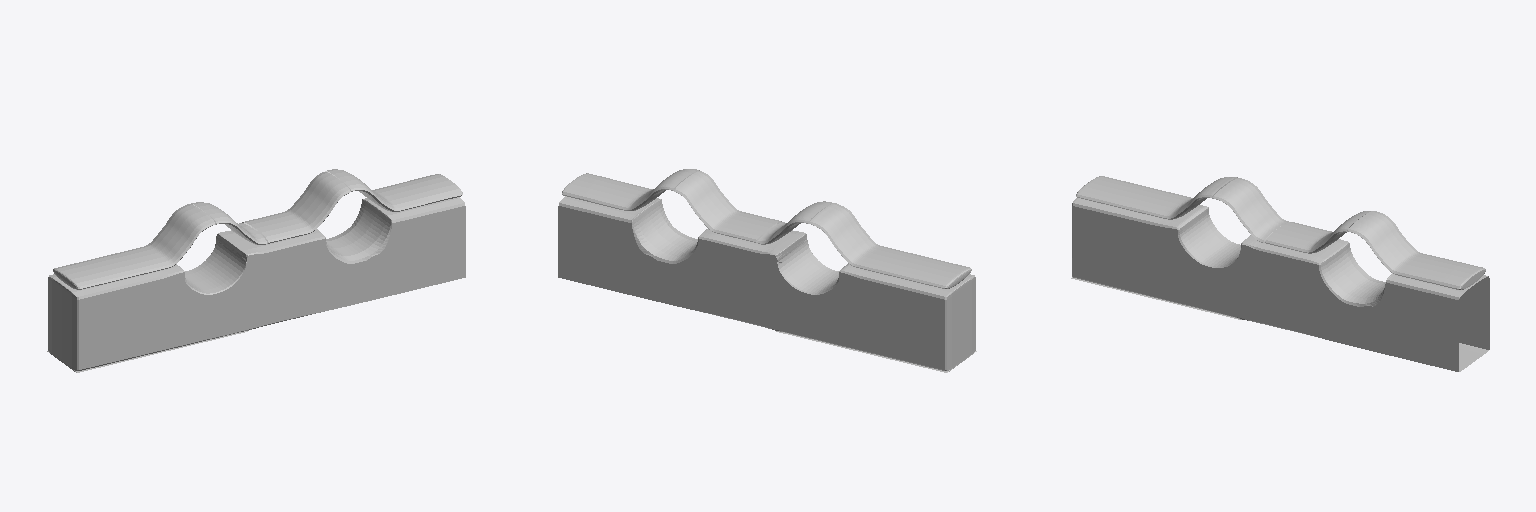
Rendered from cum_chan.obj.
3 renders of one model, left to right at view 1: azimuth 30°, elevation 25°; view 2: azimuth 150°, elevation 25°; view 3: azimuth 330°, elevation 25°, orthographic.
Visible parts, largest first — view 1: Plane, Plane.001; view 2: Plane, Plane.001; view 3: Plane, Plane.001.
Part boxes in pixels (bbox=[...]): Plane: bbox=[47, 197, 465, 372]; Plane.001: bbox=[53, 169, 462, 289]; Plane: bbox=[558, 196, 976, 372]; Plane.001: bbox=[562, 169, 971, 288]; Plane: bbox=[1071, 198, 1489, 371]; Plane.001: bbox=[1076, 176, 1485, 289].
Size of the model in its own units: 2.11 by 0.6098 by 0.2852.